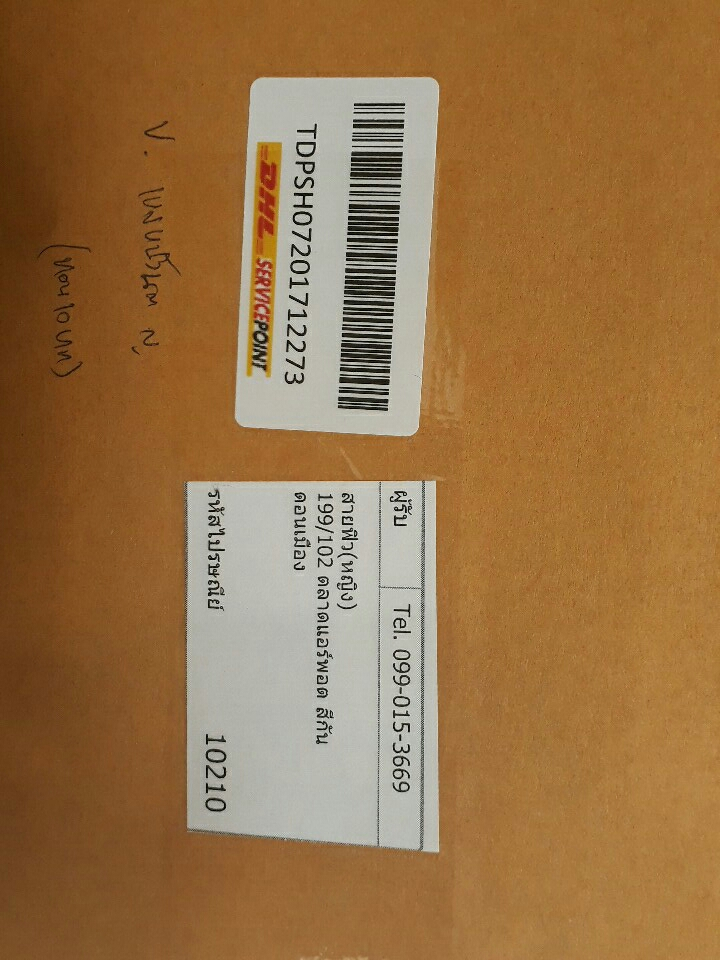ba: (228, 64, 444, 441)
txt: (195, 485, 418, 821)
